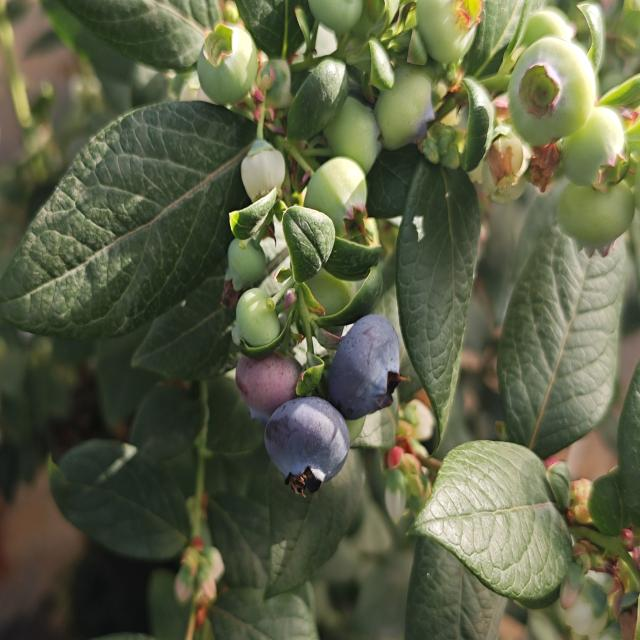ripe: (259, 395, 350, 490), (332, 320, 411, 413)
